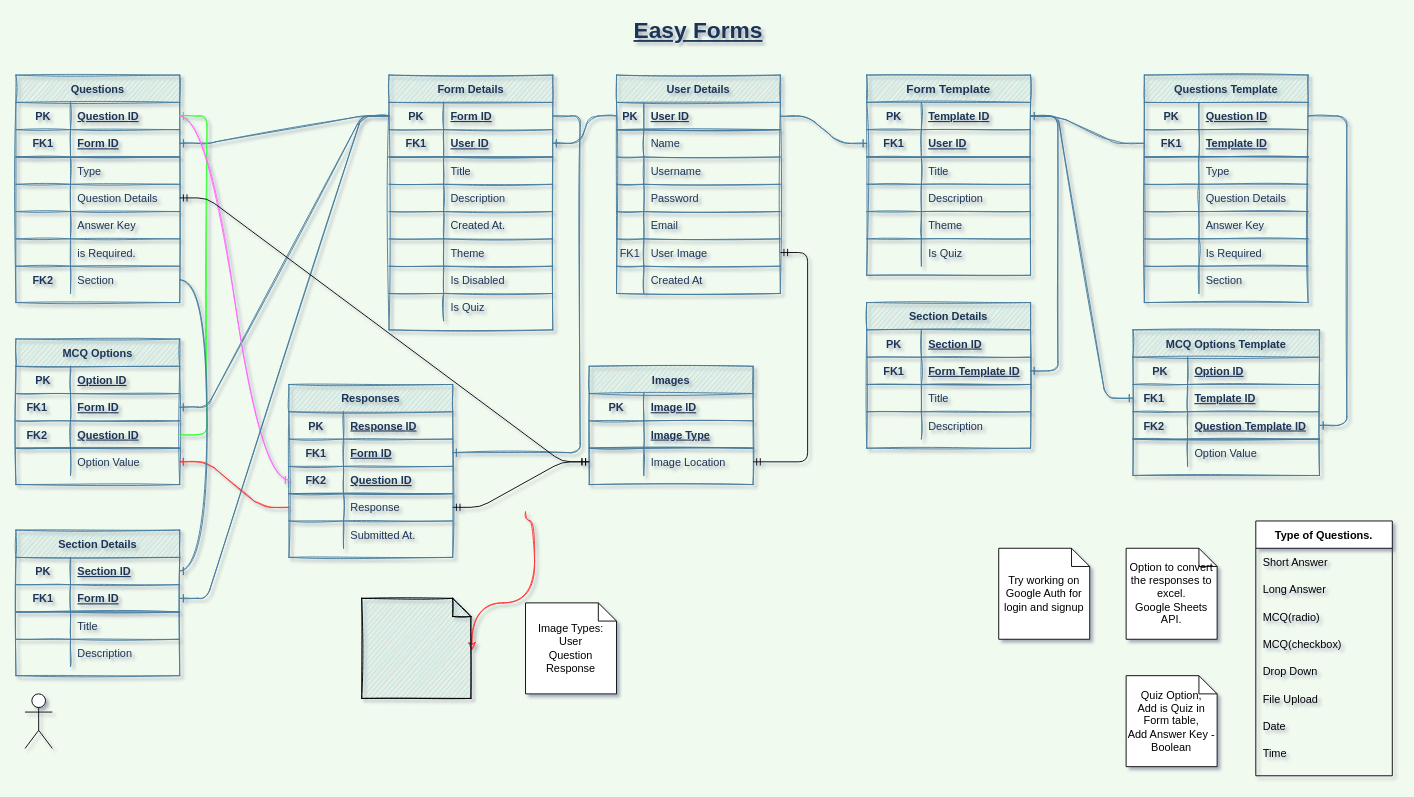
Some shapes in this 1414 by 797 pixel diagram are drawn without their labels. Here are the shapes that lost their labels. From the top down, the centre of each, then its label:
the point at 416,647: If Response is MCQ type, then It's response will be MCQ Option ID
the point at 38,720: User
